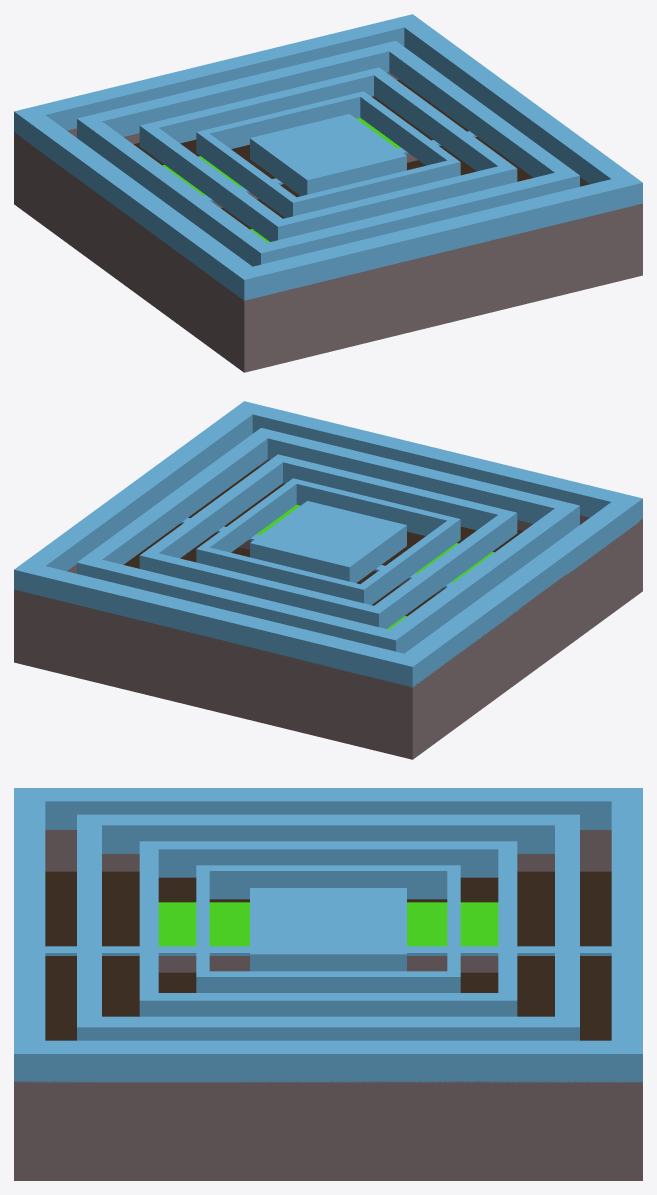
The model's file is destroyable_grid1T_rollOver.fbx.
3 views of the same model, one above another, from view 1: azimuth 30°, elevation 25°; view 2: azimuth 150°, elevation 25°; view 3: azimuth 270°, elevation 25° (orthographic). The views are drawn at different scales.
Visible parts, largest first — view 1: bottom, Frame3sides, Frame3sides.001, Frame3sides.002, Frame1side, Frame3sides.003, middle, Frame1side.001, Frame1side.002, Frame1side.003; view 2: bottom, Frame3sides, Frame3sides.001, Frame3sides.002, Frame3sides.003, Frame1side, middle, Frame1side.001, Frame1side.002, Frame1side.003; view 3: bottom, Frame3sides, Frame3sides.001, Frame3sides.002, middle, Frame1side.002, Frame3sides.003, Frame1side, Frame1side.003, Frame1side.001, support, support.001.
Boxes of the visible parts, box(x1,y1,x2,y2) form: bottom: box(14, 72, 642, 372); Frame3sides: box(14, 14, 642, 300); Frame3sides.001: box(77, 41, 579, 266); Frame3sides.002: box(141, 67, 517, 239); Frame1side: box(244, 179, 642, 300); Frame3sides.003: box(196, 91, 460, 217); middle: box(250, 114, 406, 195); Frame1side.001: box(77, 41, 395, 136); Frame1side.002: box(139, 125, 282, 241); Frame1side.003: box(360, 91, 459, 165); bottom: box(14, 459, 642, 759); Frame3sides: box(14, 401, 642, 687); Frame3sides.001: box(77, 428, 579, 653); Frame3sides.002: box(139, 454, 515, 626); Frame3sides.003: box(196, 478, 460, 604); Frame1side: box(244, 401, 642, 517); middle: box(250, 501, 406, 582); Frame1side.001: box(77, 559, 395, 651); Frame1side.002: box(374, 512, 517, 628); Frame1side.003: box(197, 478, 296, 552); bottom: box(14, 830, 642, 1180); Frame3sides: box(14, 788, 642, 1082); Frame3sides.001: box(77, 814, 579, 1040); Frame3sides.002: box(139, 841, 517, 1016); middle: box(250, 888, 406, 971); Frame1side.002: box(140, 841, 516, 877); Frame3sides.003: box(196, 865, 460, 976); Frame1side: box(14, 788, 45, 1053); Frame1side.003: box(196, 971, 460, 992); Frame1side.001: box(555, 815, 579, 1026); support: box(407, 946, 611, 955); support.001: box(45, 946, 249, 955).
Bounding box in the file's own units: 200 × 44.5 × 200.
